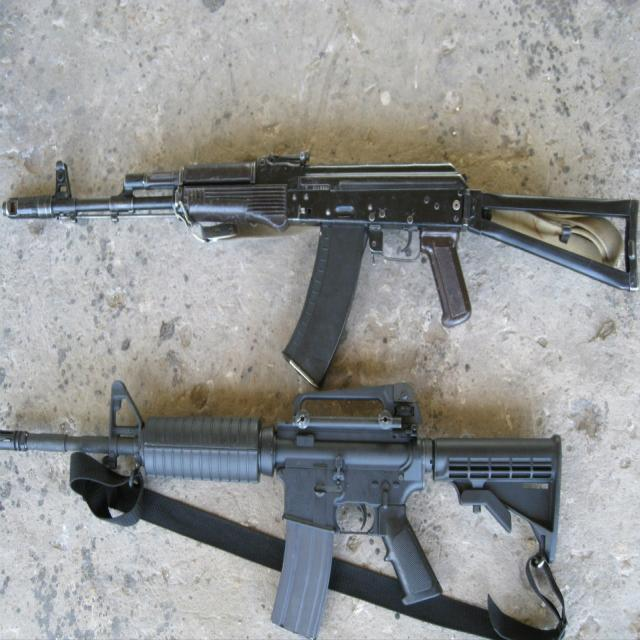firearm: (0, 148, 640, 391), (0, 381, 563, 640)
